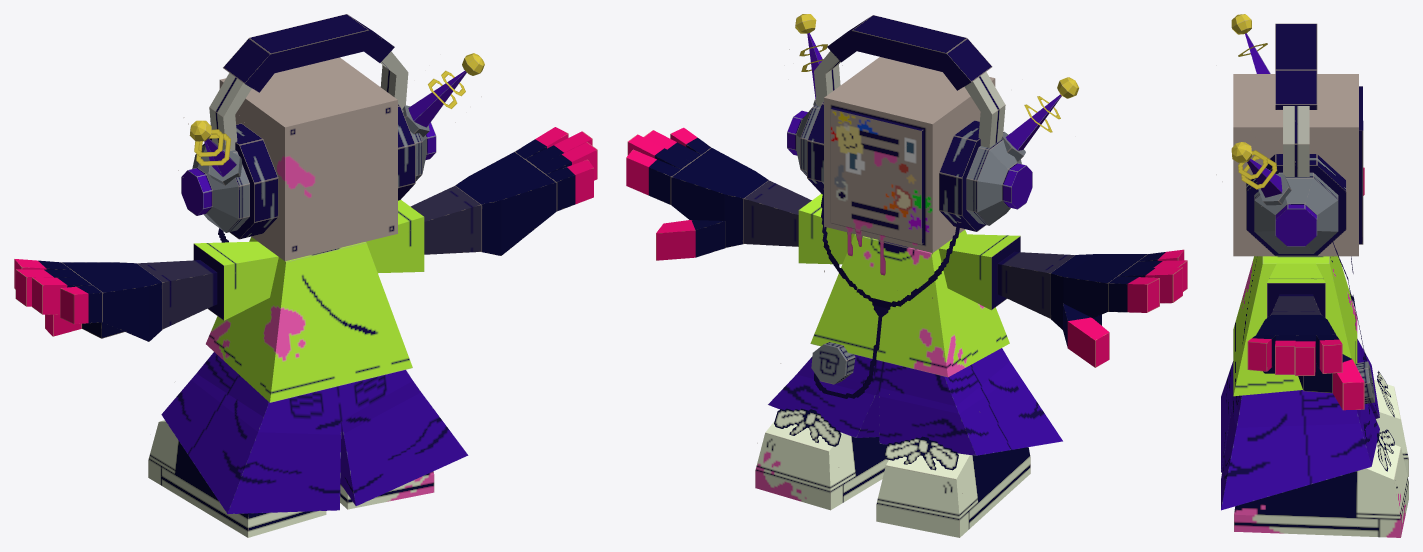
Rendered from Emerz35 v2.obj.
The picture shows the model from 3 angles, left to right: view 1: azimuth 30°, elevation 25°; view 2: azimuth 150°, elevation 25°; view 3: azimuth 270°, elevation 25°; orthographic projection. The views are drawn at different scales.
Parts seen in each view (by area): view 1: cuboid, cylinder, pyramid, plane, sphere; view 2: cuboid, cylinder, plane, pyramid, sphere; view 3: cuboid, cylinder, plane, pyramid, sphere.
Boxes of the visible parts, box(x1,y1,x2,y2) form: cuboid: box(14, 14, 597, 537); cylinder: box(181, 104, 436, 239); pyramid: box(204, 71, 466, 176); plane: box(178, 70, 481, 242); sphere: box(189, 53, 484, 141); cuboid: box(626, 15, 1187, 537); cylinder: box(787, 99, 1032, 384); plane: box(757, 44, 1060, 493); pyramid: box(807, 33, 1061, 150); sphere: box(795, 14, 1078, 98); cuboid: box(1221, 23, 1408, 537); cylinder: box(1246, 154, 1374, 403); plane: box(1216, 43, 1394, 471); pyramid: box(1245, 33, 1282, 197); sphere: box(1231, 14, 1251, 163).
Size of the model in its own units: 2.35 by 1.82 by 0.7195.
Materials: 1 (1 with a texture image).
